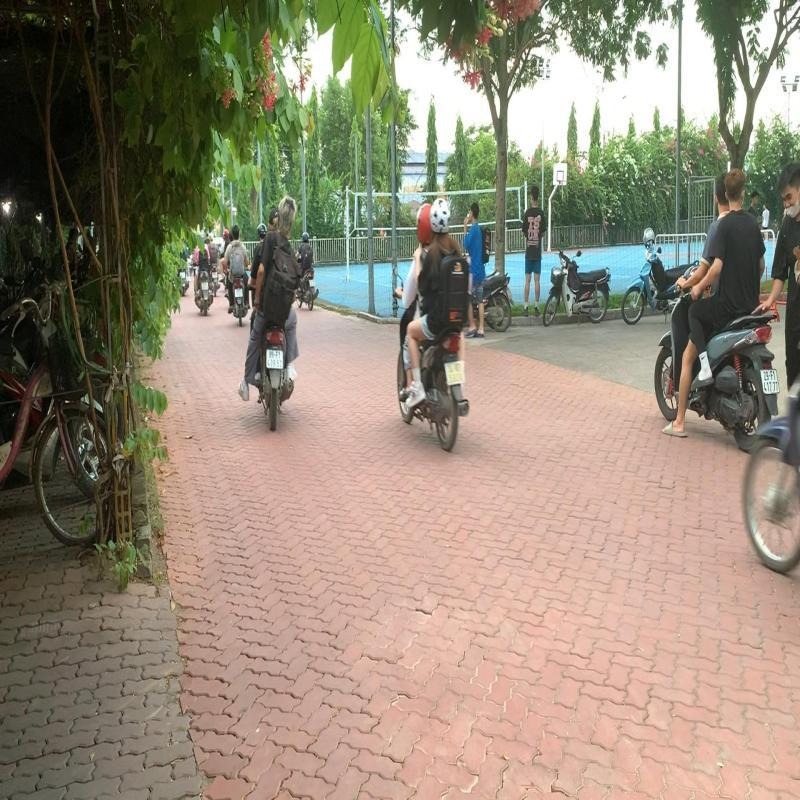nohelmet: (276, 192, 298, 232)
